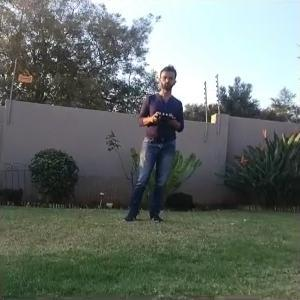follow: (117, 65, 186, 232)
